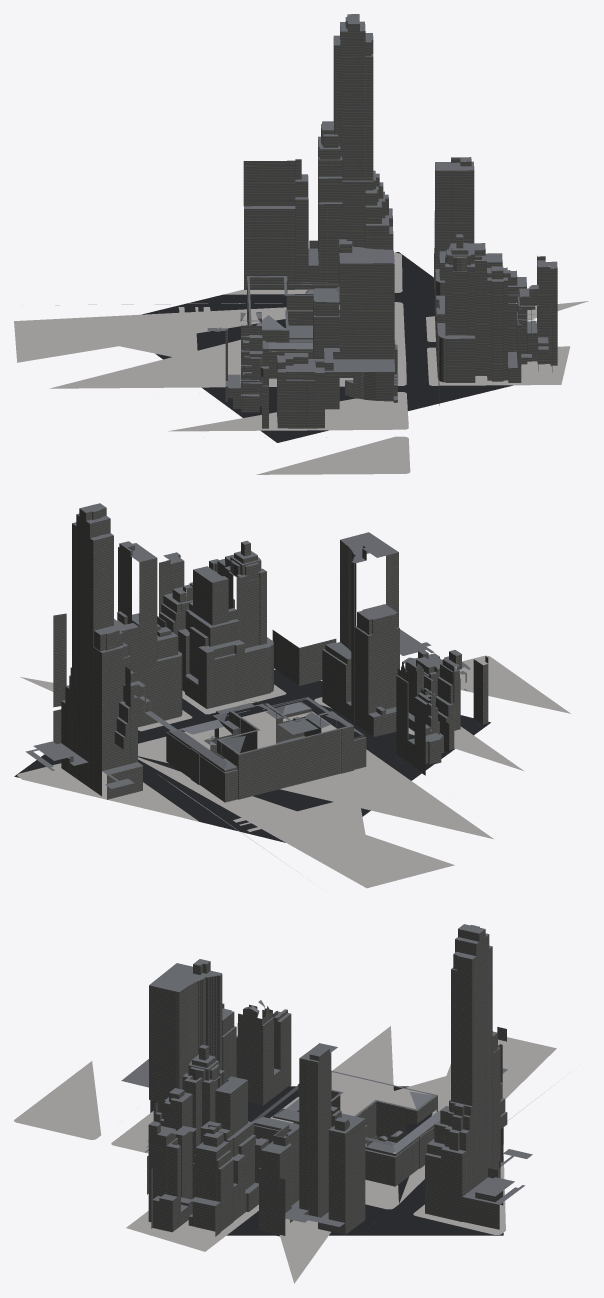
3 renders of one model, top to bottom at view 1: azimuth 30°, elevation 25°; view 2: azimuth 150°, elevation 25°; view 3: azimuth 270°, elevation 25°, orthographic. The views are drawn at different scales.
Visible parts, largest first — view 1: t4_7, detail; view 2: t4_7, detail; view 3: t4_7, detail.
Part boxes in pixels (bbox=[...]): t4_7: bbox=[142, 14, 557, 442]; detail: bbox=[14, 253, 588, 474]; t4_7: bbox=[14, 503, 490, 842]; detail: bbox=[17, 655, 570, 888]; t4_7: bbox=[121, 924, 532, 1236]; detail: bbox=[14, 1026, 570, 1283].
Size of the model in its own units: 461 by 217 by 407.
4 materials, 2 textured.
